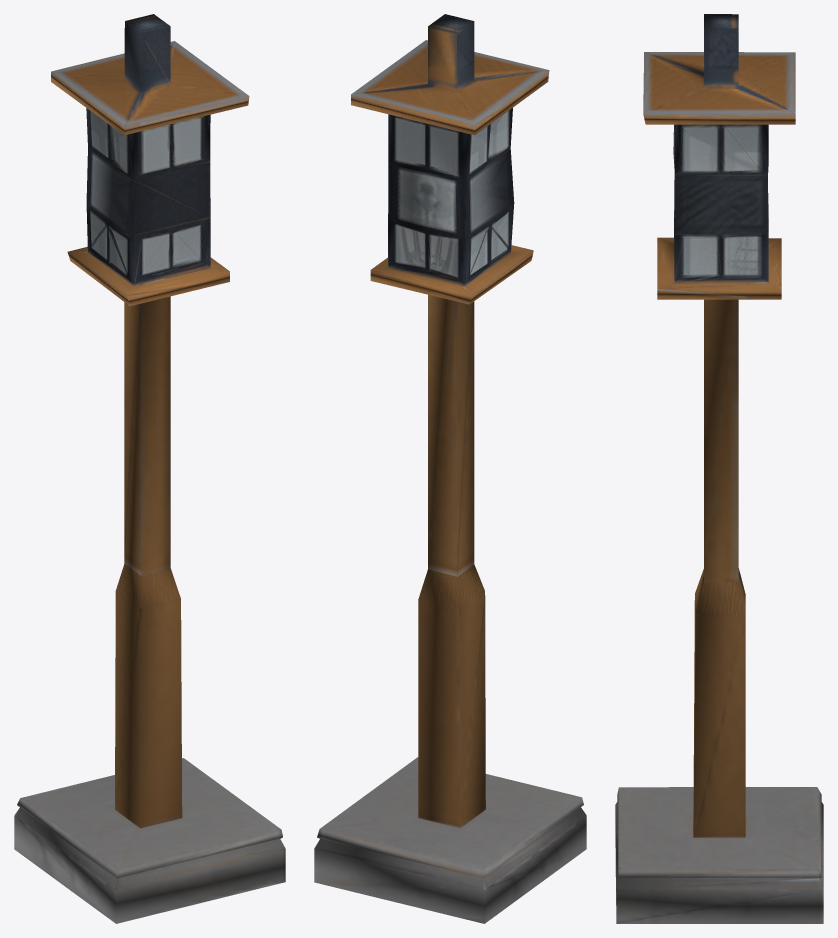
File: prop-lantern-post.glb
3 views of the same model, side by side, from view 1: azimuth 30°, elevation 25°; view 2: azimuth 150°, elevation 25°; view 3: azimuth 270°, elevation 25° (orthographic). The views are drawn at different scales.
Size of the model in its own units: 0.2007 by 0.9497 by 0.2085.
Materials: 1 (1 with a texture image).
